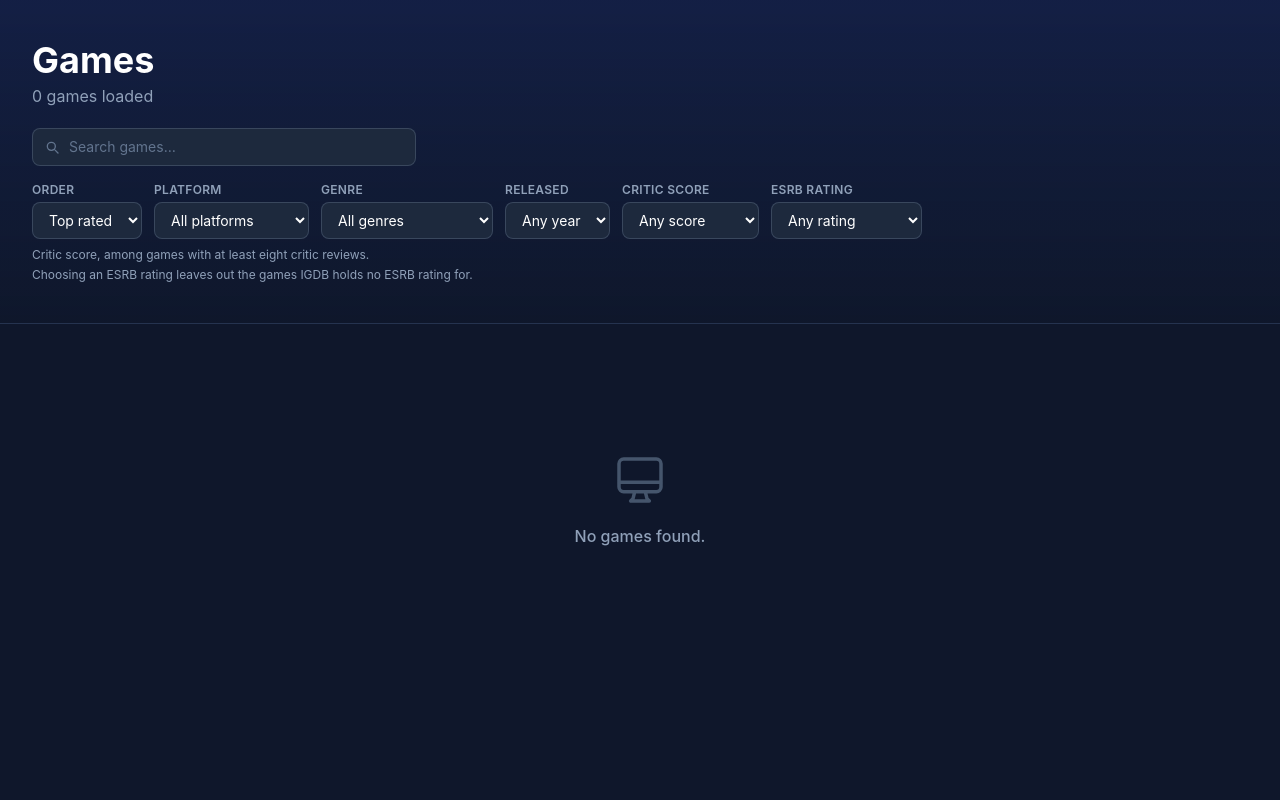
Test: GamesPage filters › draws a page of card shapes, and says so in words, while another result set loads
Select "PC (Windows)" in the dropdown labelled "Platform" at (232,220), box [154,202,309,239]
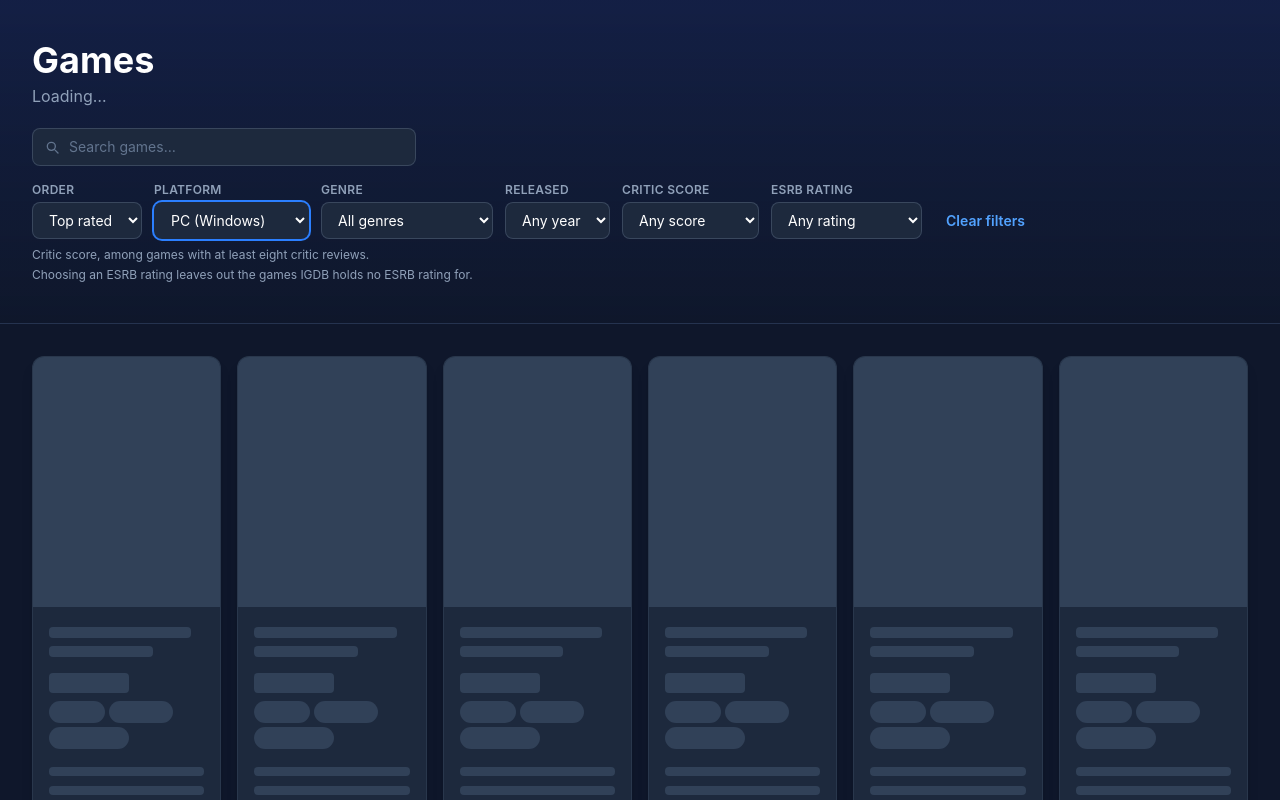
Result: the number of elements with class "skeleton-sheen" is 20
